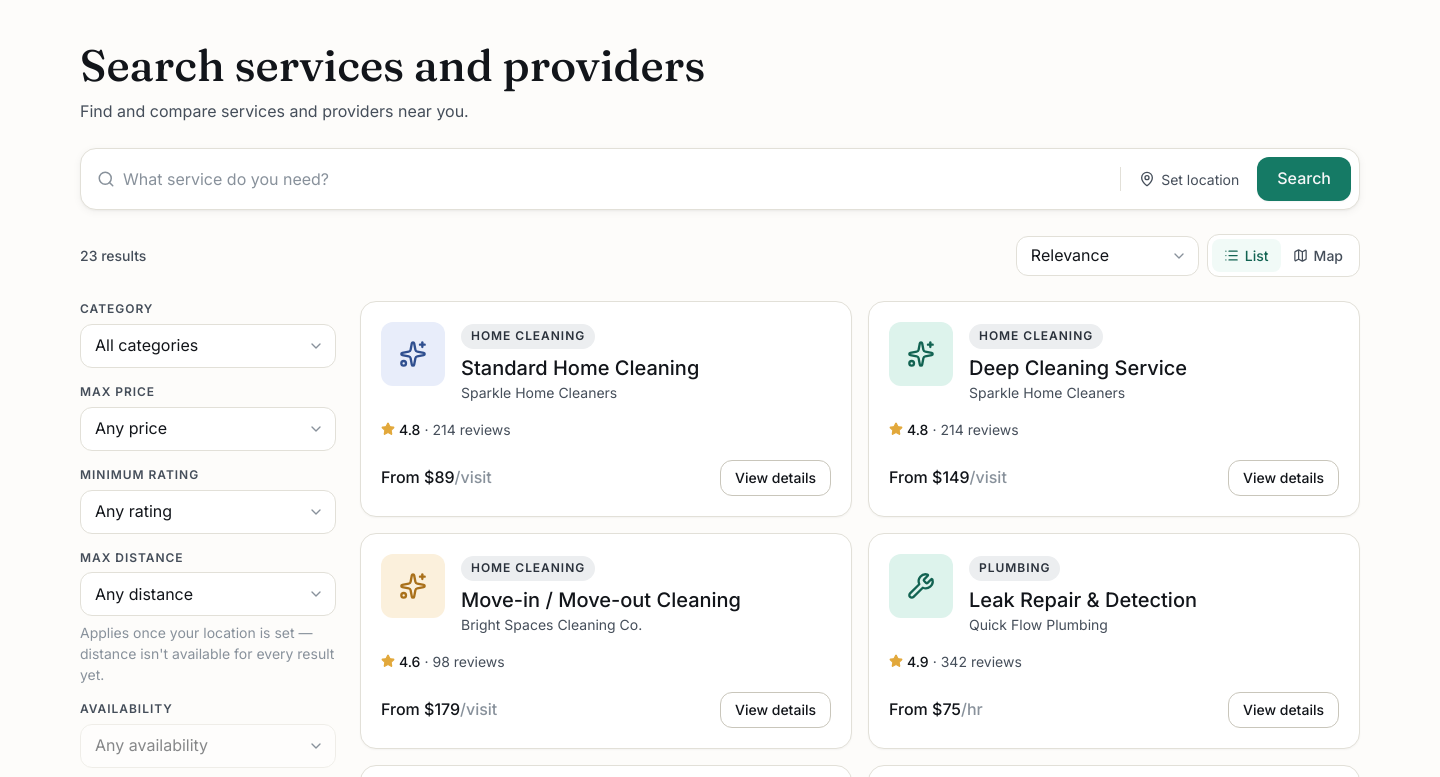
Test: SearchPageClient › filters results when a category is selected
Expected: the text "23 results" is shown, [80,245,146,266]
Step 1. Select "Beauty" in the dropdown labelled "Category" → (208, 346), box [80,324,336,368]
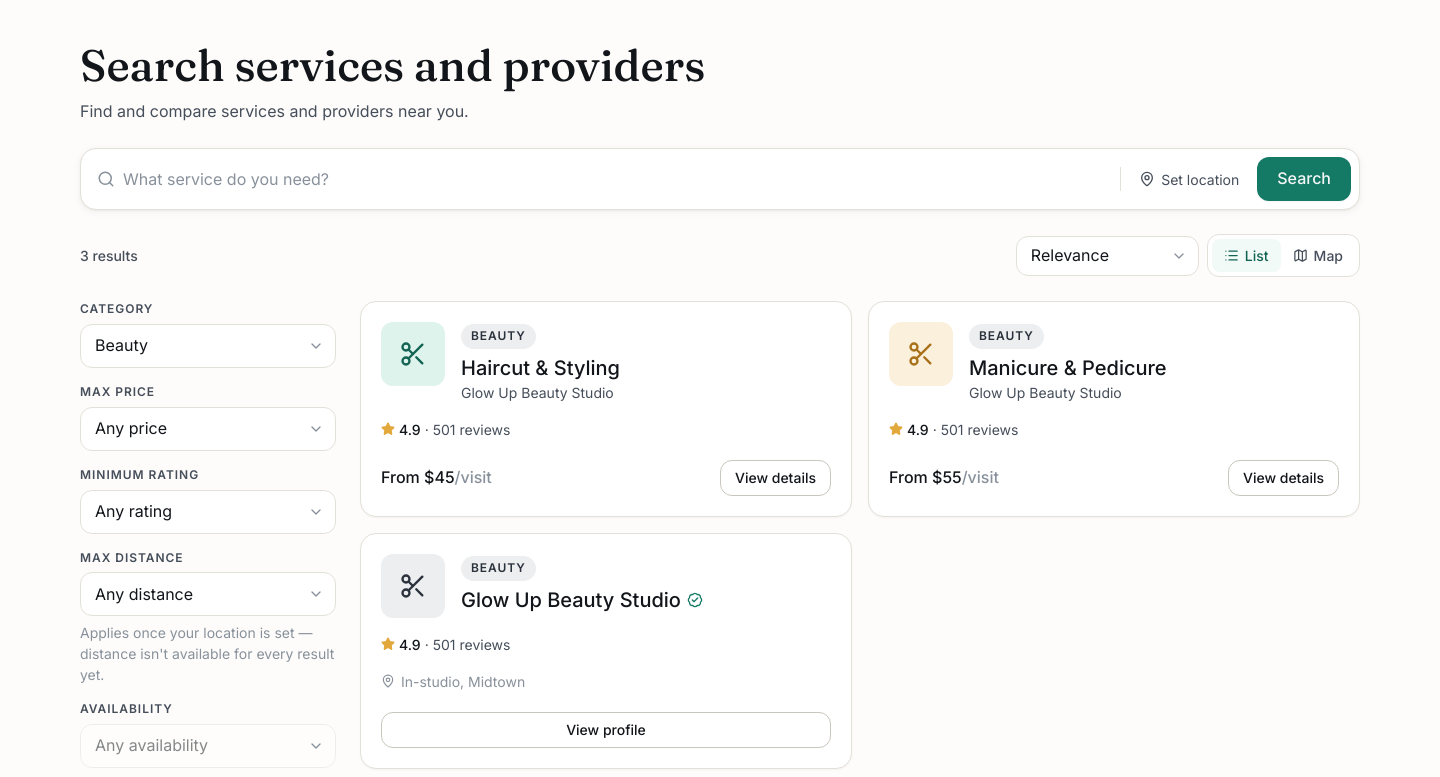
Expected: the text "Glow Up Beauty Studio" below "Haircut & Styling" is shown, [461,384,614,401]
Now the text "Quick Flow Plumbing" is gone
